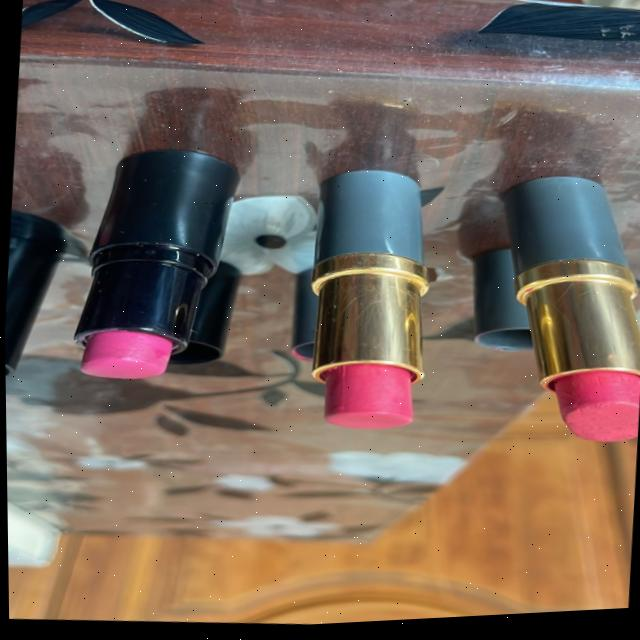lip stick: (39, 142, 249, 408), (477, 176, 640, 463), (292, 153, 445, 440)
